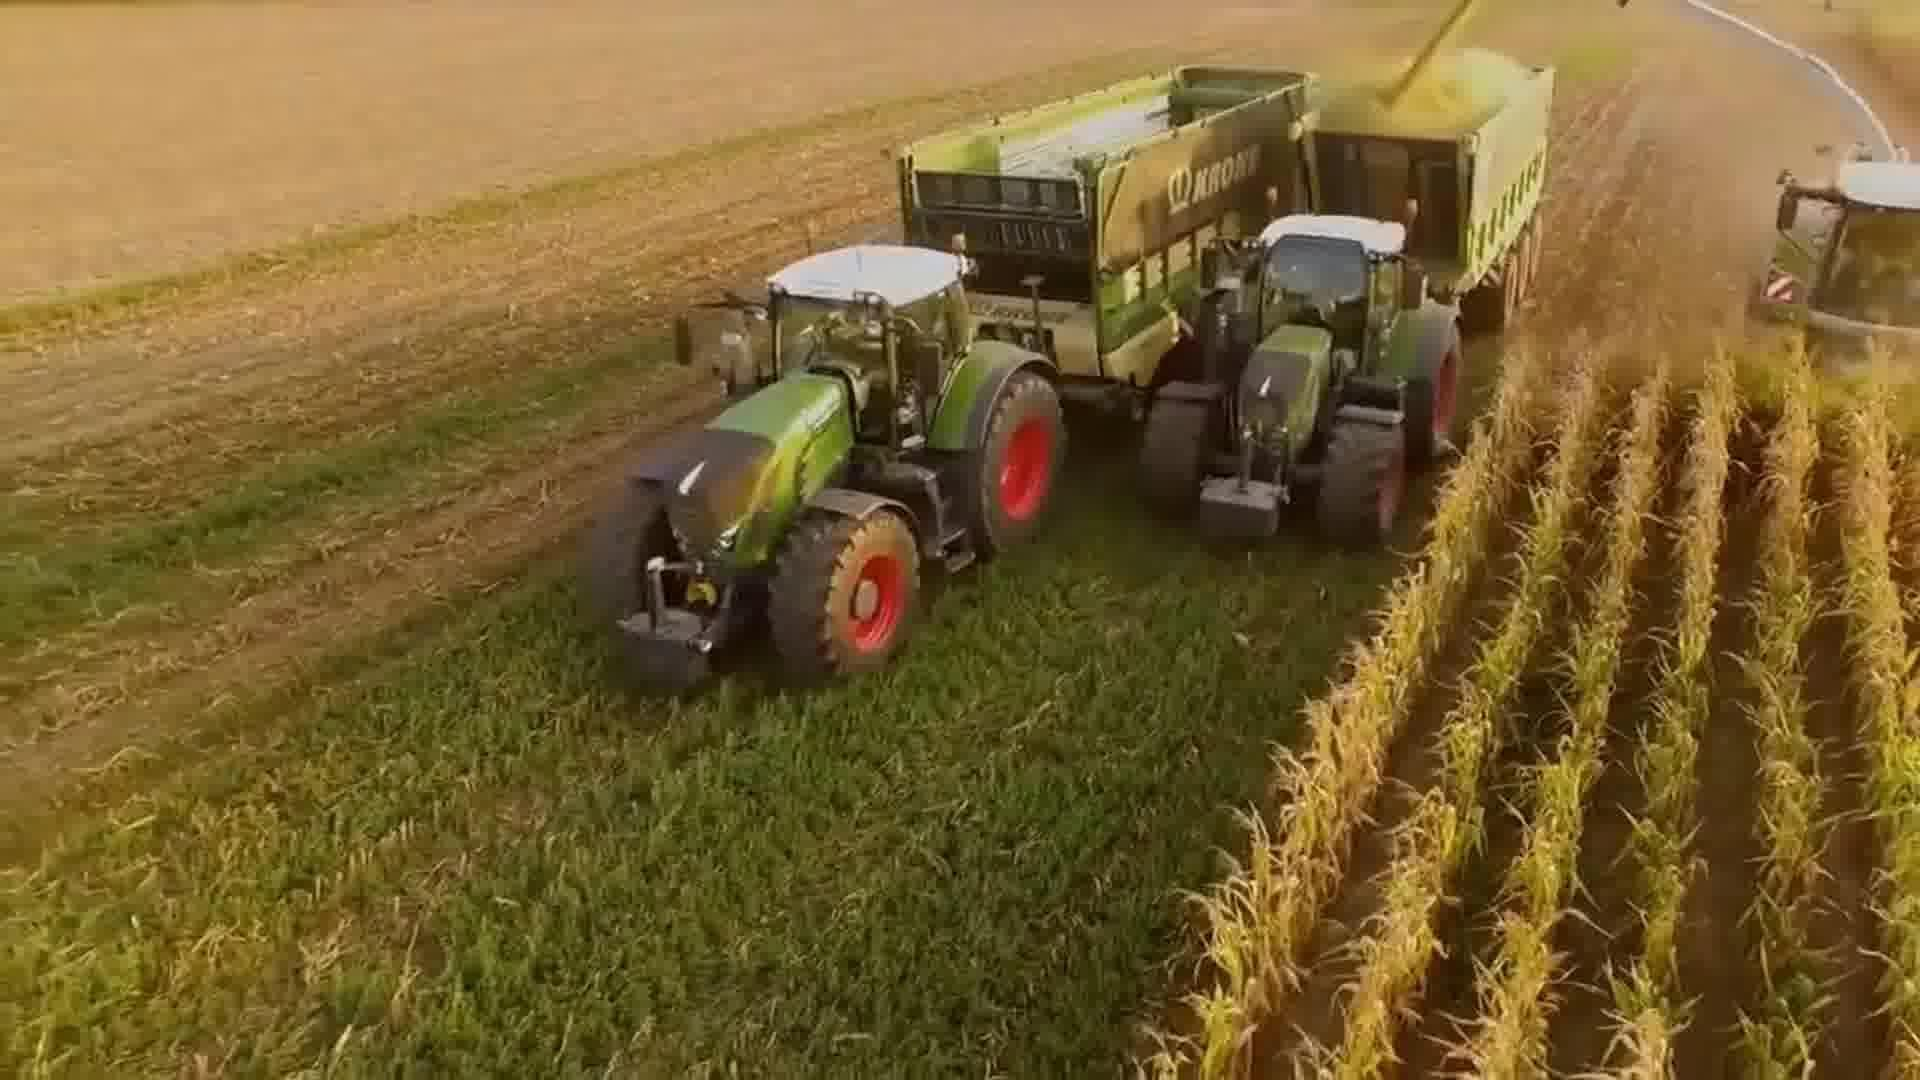combine harvester: (1664, 0, 1919, 404)
tractor: (588, 233, 1058, 709), (1127, 200, 1474, 559)
trailer: (881, 57, 1312, 378), (1291, 46, 1564, 336)
